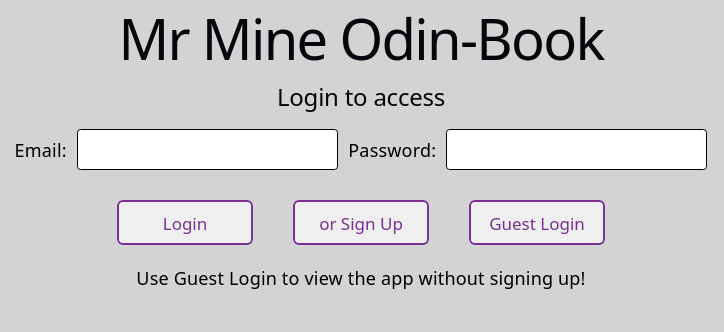
Test case: Login component › does not authenticate a user from an HTTP 401 response
Step 1. Click the button "Login" → (185, 222), box left=117, top=200, right=253, bottom=245
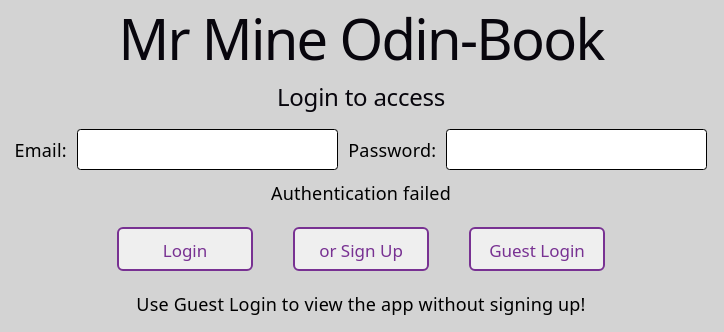
Check: the button "Login" is enabled, box left=117, top=226, right=253, bottom=271
Check: the text "Authentication failed" is shown, box left=271, top=181, right=451, bottom=205
